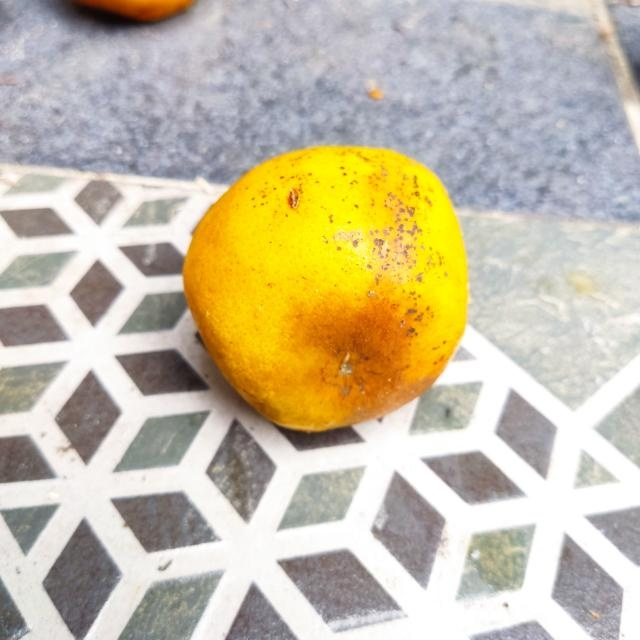agrume: (182, 143, 473, 435)
